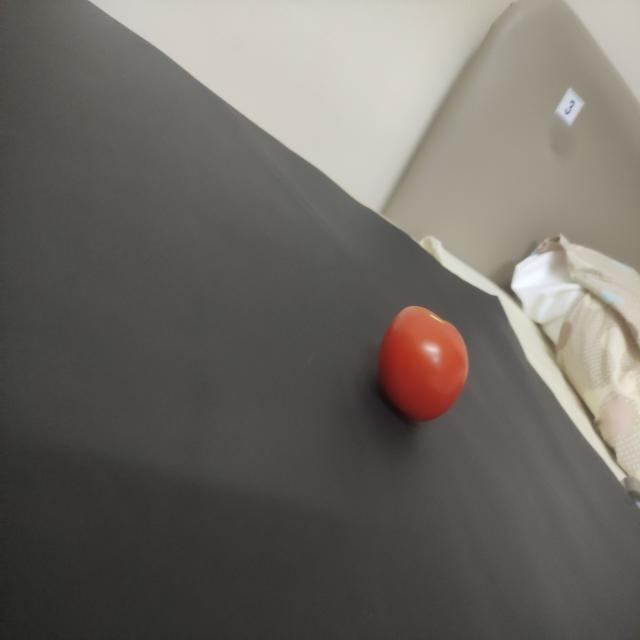kirmizi: (364, 276, 484, 429)
